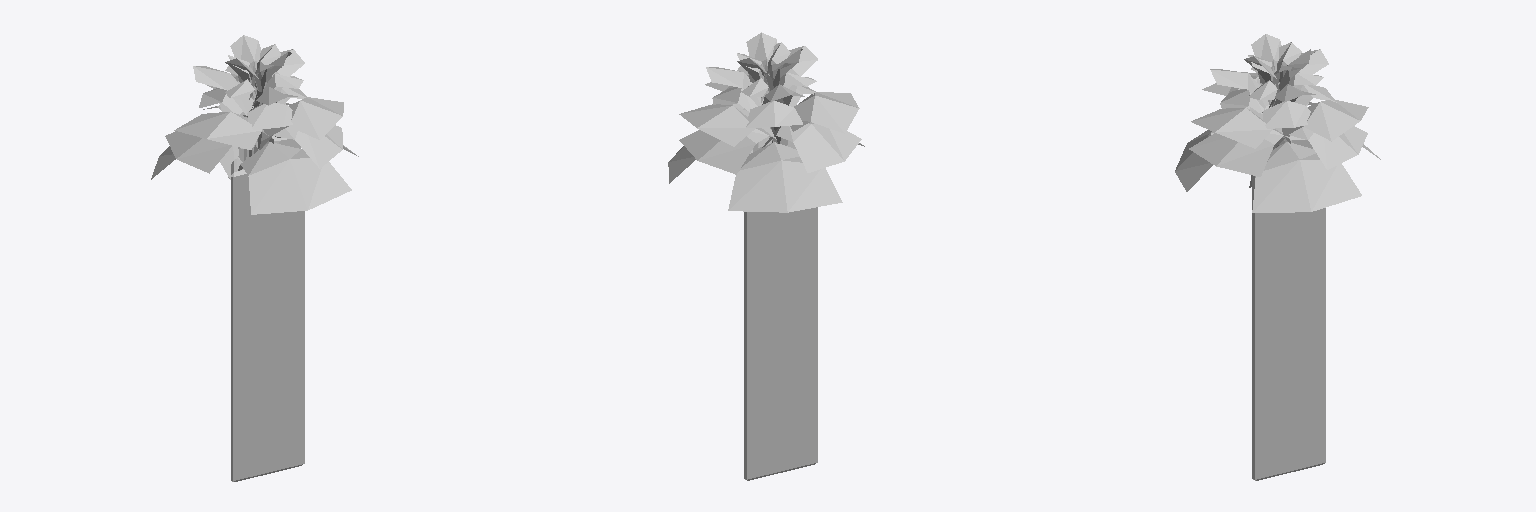
File: triangle_shrub.obj
The picture shows the model from 3 angles: view 1: azimuth 30°, elevation 25°; view 2: azimuth 150°, elevation 25°; view 3: azimuth 270°, elevation 25°; orthographic projection.
Visible parts, largest first — view 1: Triangle.001; view 2: Triangle.001; view 3: Triangle.001.
Boxes of the visible parts, <box> form: Triangle.001: <box>151,35,358,481</box>; Triangle.001: <box>668,32,864,480</box>; Triangle.001: <box>1175,34,1380,480</box>.
Size of the model in its own units: 0.6081 by 1.35 by 0.6152.